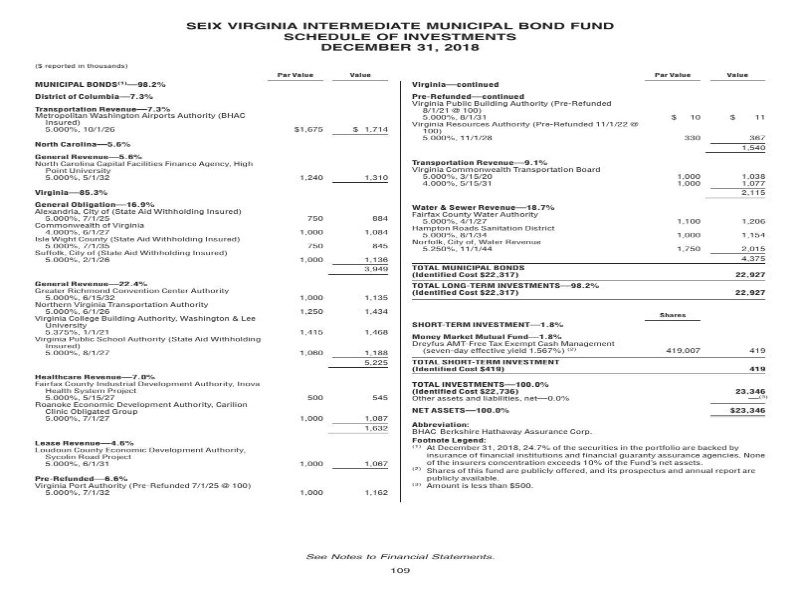table: (19, 52, 409, 530), (393, 67, 790, 521)
